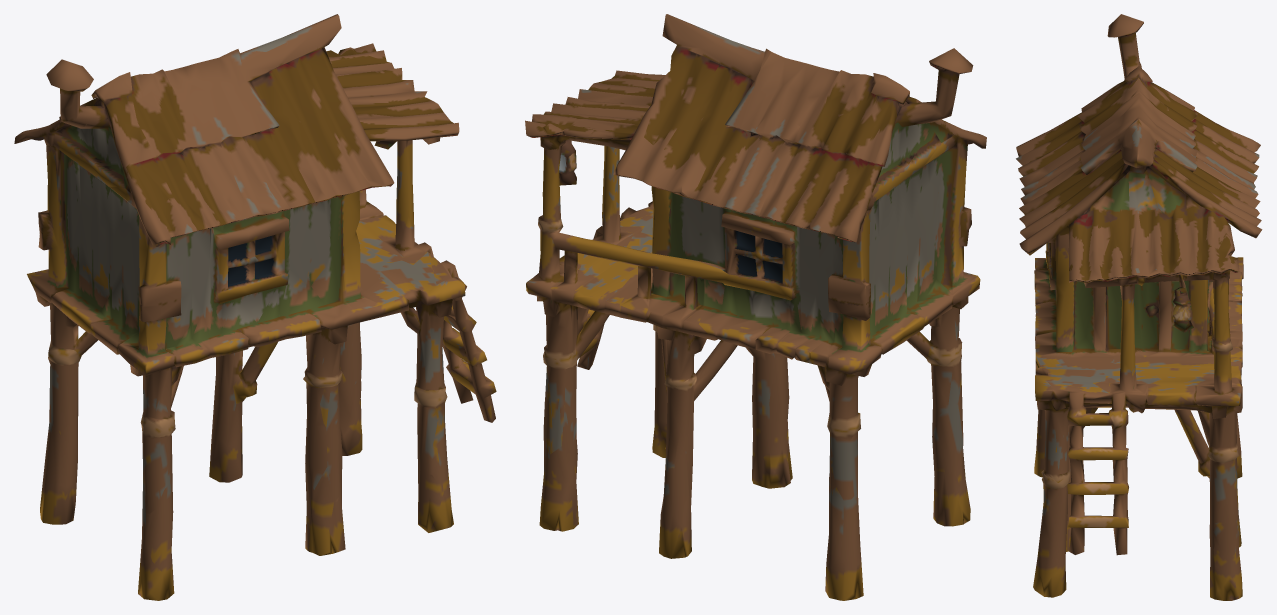
Rendered from stilt-shack.glb.
3 views of the same model, side by side, from view 1: azimuth 30°, elevation 25°; view 2: azimuth 150°, elevation 25°; view 3: azimuth 270°, elevation 25° (orthographic). The views are drawn at different scales.
Visible parts, largest first — view 1: tripo_node_253fd4ce-a263-4d43-8526-7a20d2c04633; view 2: tripo_node_253fd4ce-a263-4d43-8526-7a20d2c04633; view 3: tripo_node_253fd4ce-a263-4d43-8526-7a20d2c04633.
Part boxes in pixels (x1,y1,x2,y2): tripo_node_253fd4ce-a263-4d43-8526-7a20d2c04633: [14, 14, 496, 600]; tripo_node_253fd4ce-a263-4d43-8526-7a20d2c04633: [525, 14, 986, 600]; tripo_node_253fd4ce-a263-4d43-8526-7a20d2c04633: [1016, 14, 1262, 600].
Bounding box in the file's own units: 0.8568 × 1 × 0.5083.
1 material, 1 textured.
